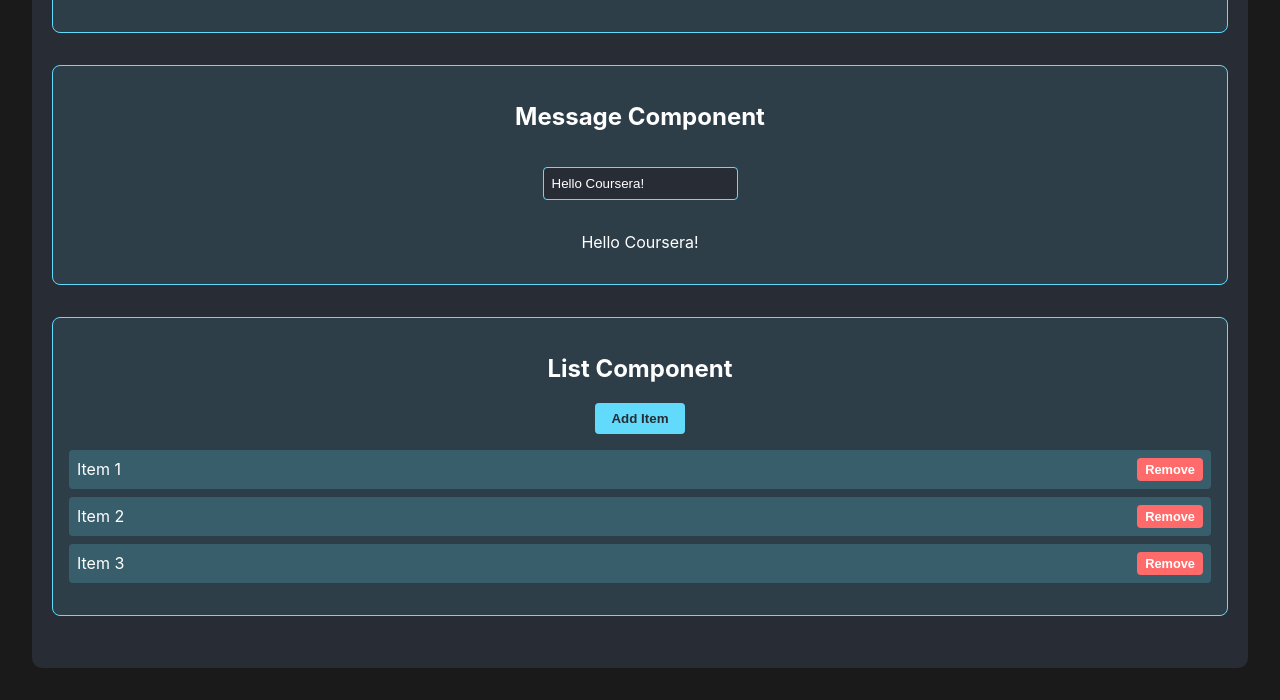
Test: Coursera React Lab E2E Tests › should test list management functionality
(page scrolled)
Expected: the list item with test id "item-list" shows "Item 1", 77,459 -> 121,479
Expected: the list item with test id "item-list" shows "Item 2", 77,506 -> 124,526
# Test adding items
Click the button with test id "add-item-btn" at x=641, y=419, box 596,403 -> 685,434
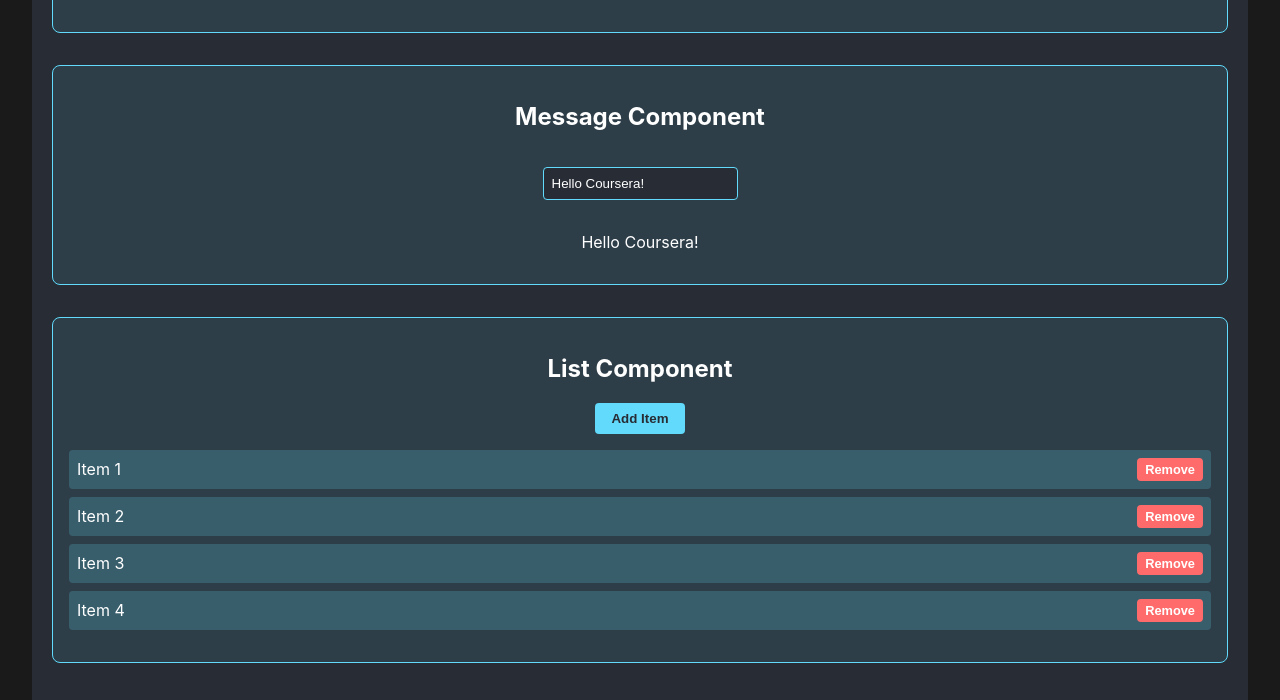
Now the list item with test id "item-list" shows "Item 4", box 77,600 -> 125,620
Click the button with test id "add-item-btn" at x=641, y=419, box 596,403 -> 685,434
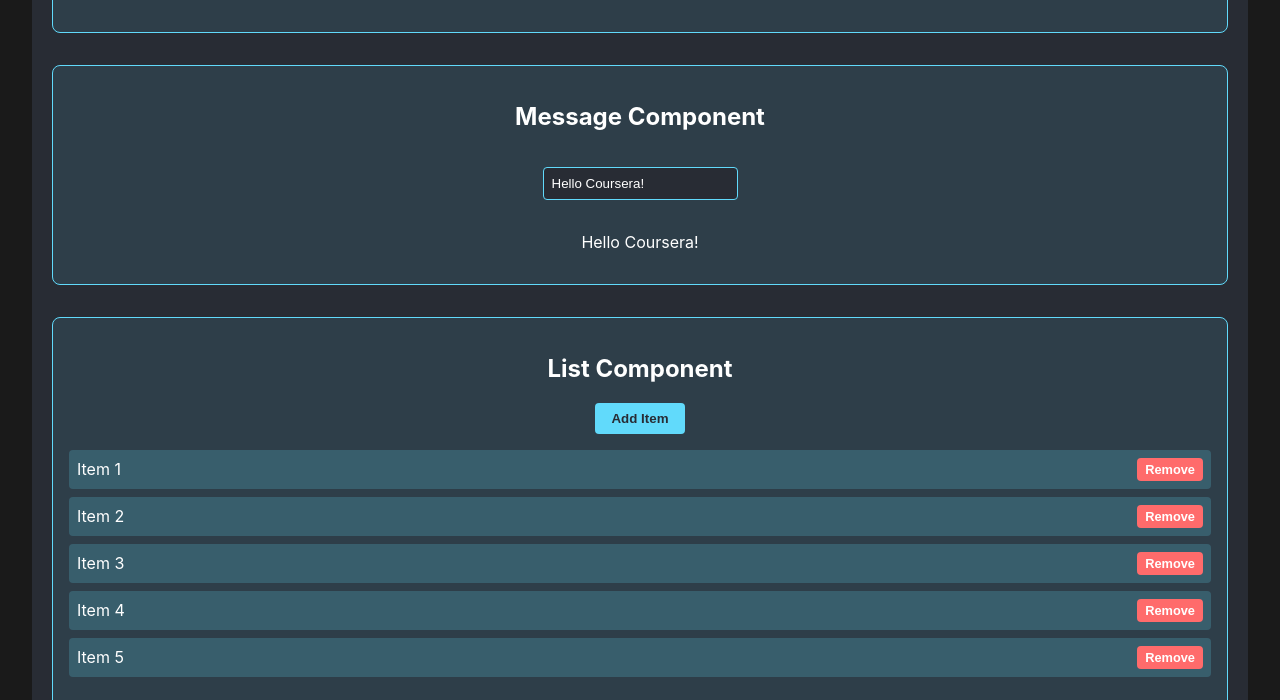
Now the list item with test id "item-list" shows "Item 5", box 77,647 -> 124,667
# Test removing items
Click the button with test id "remove-item-0" at x=1170, y=470, box 1137,458 -> 1203,481
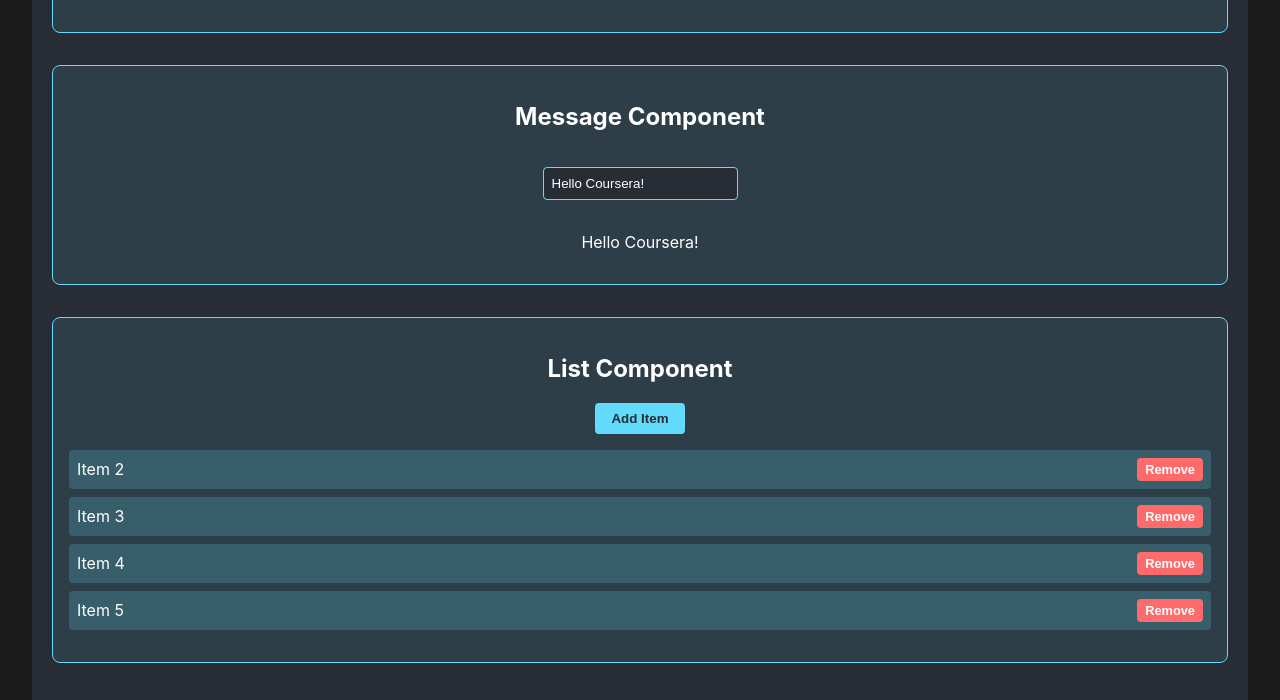
Now the list item with test id "item-list" no longer shows "Item 1"
Now the list item with test id "item-list" shows "Item 2", box 77,459 -> 124,479
Now the list item with test id "item-list" shows "Item 3", box 77,506 -> 124,526
